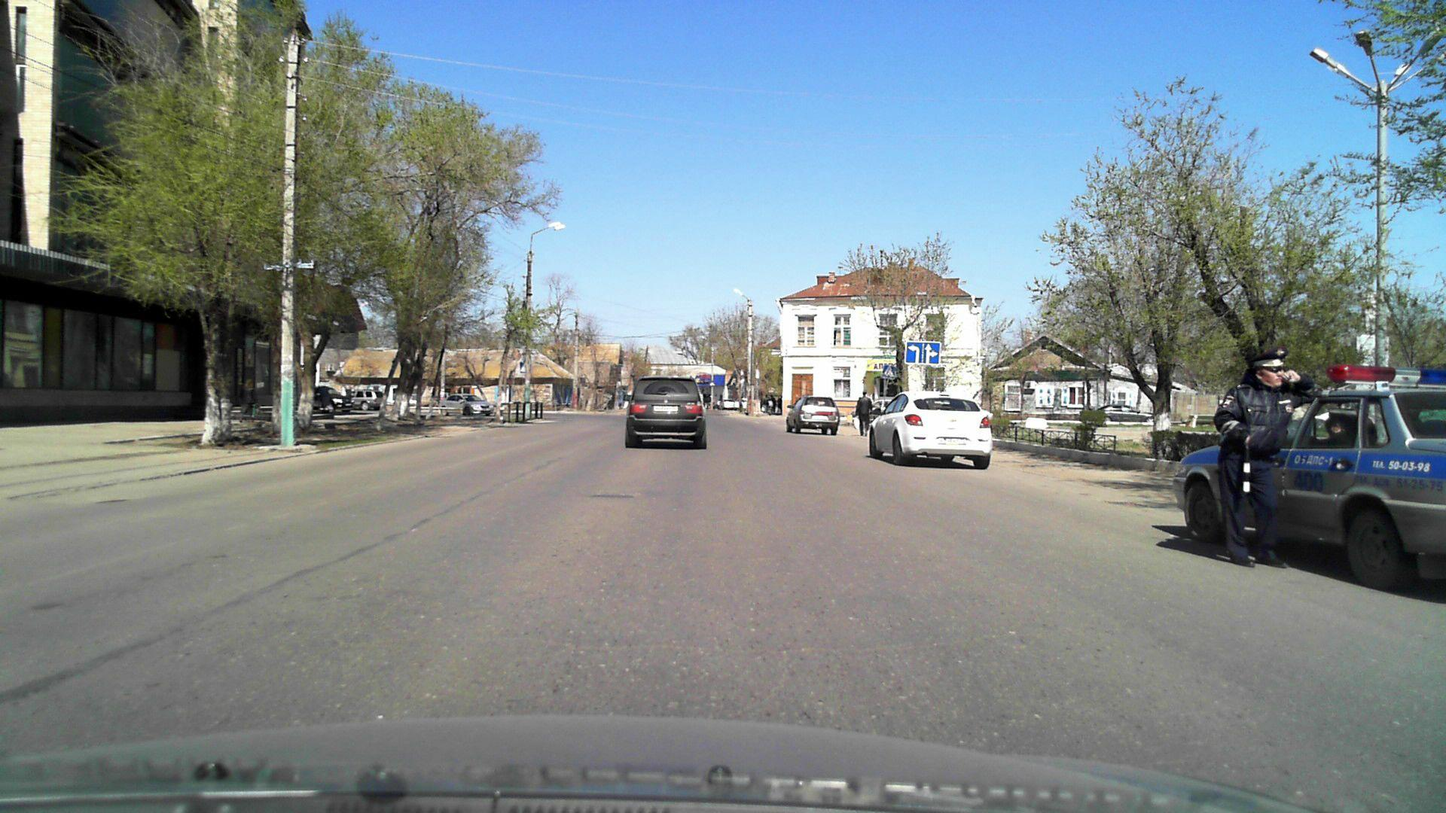road_sign: (904, 341, 941, 364)
